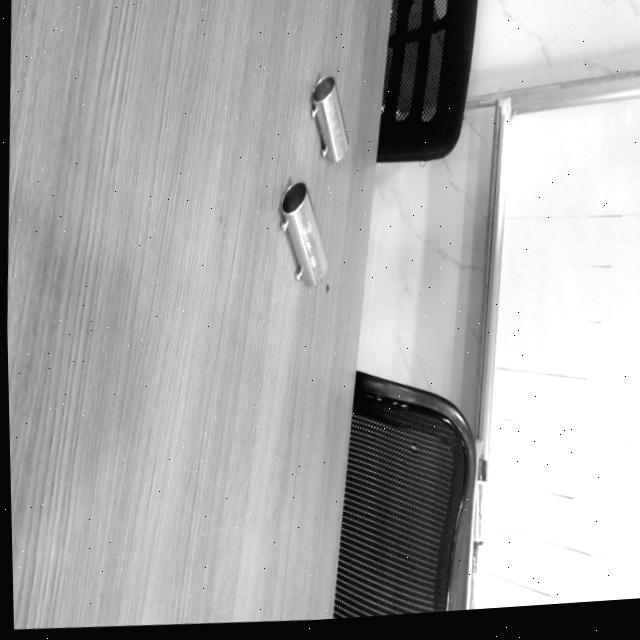Co_Lon: (270, 179, 333, 289)
Co_Nho: (303, 74, 352, 164)
